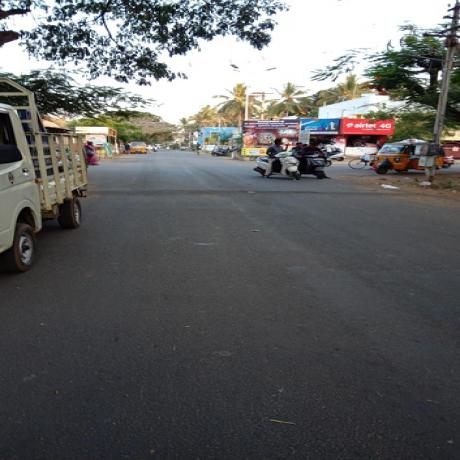Speed Bump: (83, 186, 425, 197)
